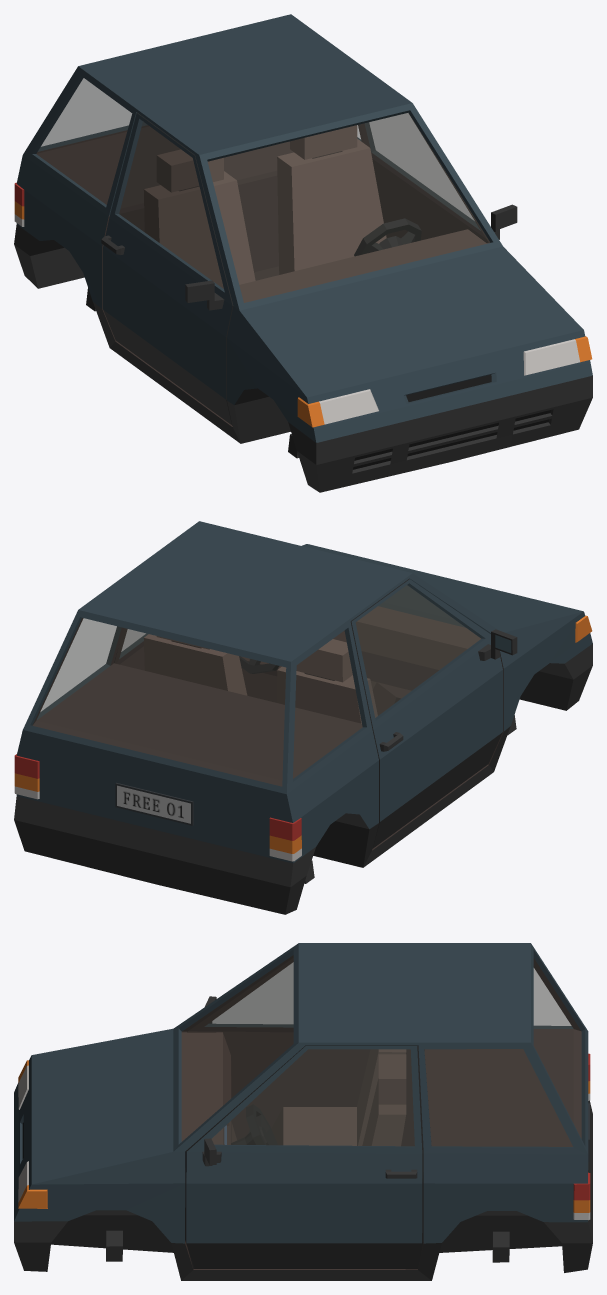
File: car.glb
3 renders of one model, top to bottom at view 1: azimuth 30°, elevation 25°; view 2: azimuth 150°, elevation 25°; view 3: azimuth 270°, elevation 25°, orthographic. The views are drawn at different scales.
Visible parts, largest first — view 1: car body, windows, interior, door r, win door r.001, win door r.002, door l, win door l.001; view 2: car body, windows, door r, interior, win door r.001, win door r.002, free number, door l; view 3: car body, door l, windows, win door l.001, win door l.002, interior, door r, win door r.001.
Boxes of the visible parts, box(x1,y1,x2,y2) form: car body: box(14, 14, 592, 492); windows: box(37, 78, 489, 302); interior: box(144, 125, 486, 302); door r: box(101, 113, 233, 425); win door r.001: box(119, 122, 223, 288); win door r.002: box(120, 122, 222, 287); door l: box(360, 113, 517, 242); win door l.001: box(365, 113, 479, 229); car body: box(14, 521, 592, 914); windows: box(33, 618, 362, 786); door r: box(350, 579, 517, 848); interior: box(143, 606, 480, 723); win door r.001: box(356, 585, 480, 717); win door r.002: box(356, 586, 480, 717); free number: box(115, 782, 193, 825); door l: box(114, 628, 147, 670); car body: box(14, 943, 592, 1280); door l: box(185, 1045, 423, 1269); windows: box(182, 955, 581, 1146); win door l.001: box(212, 1049, 414, 1145); win door l.002: box(212, 1050, 414, 1145); interior: box(181, 1032, 406, 1146); door r: box(187, 958, 414, 1146); win door r.001: box(205, 963, 292, 1026).
Size of the model in its own units: 2.18 by 1.51 by 3.46.
Materials: 4 (4 with a texture image).
